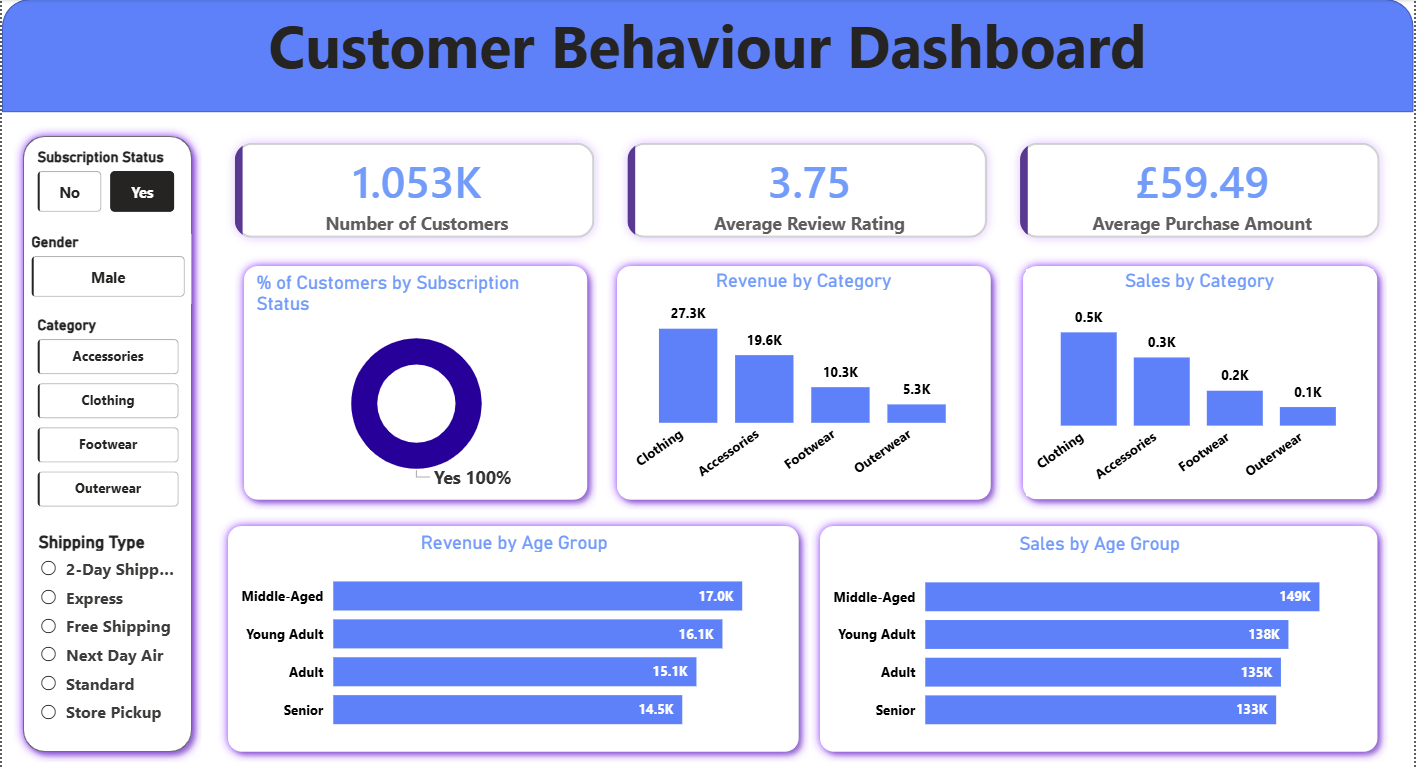

The dashboard page shown, as its layout file describes it:
{"tool":"powerbi","page":{"name":"Page 1","canvas":[1280,720],"ordinal":0},"visuals":[{"type":"cardVisual","fields":{"Data":["customer_behaviour customer.Number of Customers","customer_behaviour customer.Average Review Rating","customer_behaviour customer.Average Purchase Amount"]},"box":[183.1,102.1,1096.9,142.6],"z":0},{"type":"shape","box":[0,0,1280,102.8],"z":1000},{"type":"textbox","box":[187.7,0,904.1,85.2],"z":2000},{"type":"shape","box":[210.7,232.8,329.4,230.1],"z":3000},{"type":"donutChart","title":"% of Customers by Subscription Status","fields":{"Category":["customer_behaviour customer.subscription_status"],"Y":["CountNonNull(customer_behaviour customer.customer_id)"]},"box":[225.4,246.6,300,202.4],"z":4000},{"type":"shape","box":[916.5,232.8,339.3,229.7],"z":5000},{"type":"shape","box":[548.4,232.8,357,230.1],"z":6000},{"type":"shape","box":[196,468.4,535.6,222.7],"z":7000},{"type":"shape","box":[732.5,468.4,523.6,222.7],"z":9000,"group":"g1"},{"type":"clusteredColumnChart","title":"Revenue by Category","fields":{"Category":["customer_behaviour customer.category"],"Y":["Sum(customer_behaviour customer.purchase_amount)"]},"box":[563.2,244.8,327.6,202.4],"z":9001},{"type":"clusteredColumnChart","title":"Sales by Category","fields":{"Category":["customer_behaviour customer.category"],"Y":["CountNonNull(customer_behaviour customer.customer_id)"]},"box":[928.5,244.6,314.7,206],"z":9002},{"type":"shape","box":[10,115.2,171.4,576.7],"z":9003},{"type":"advancedSlicerVisual","title":"Subscription Status","fields":{"Values":["customer_behaviour customer.subscription_status"]},"box":[27.6,136.2,135.3,62.6],"z":9004},{"type":"advancedSlicerVisual","title":"Gender","fields":{"Values":["customer_behaviour customer.gender"]},"box":[21.8,213.1,149.6,62.6],"z":9005},{"type":"advancedSlicerVisual","title":"Category","fields":{"Values":["customer_behaviour customer.category"]},"box":[27.2,288.4,138.7,180.5],"z":9006},{"type":"listSlicer","title":"Shipping Type","fields":{"Values":["customer_behaviour customer.shipping_type"]},"box":[28.1,482.4,136,185],"z":9007},{"type":"clusteredBarChart","title":"Revenue by Age Group ","fields":{"Y":["Sum(customer_behaviour customer.purchase_amount)"],"Category":["customer_behaviour customer.age_group"]},"box":[210.7,482.2,508,195.1],"z":9008},{"type":"clusteredBarChart","title":"Sales by Age Group ","fields":{"Category":["customer_behaviour customer.age_group"],"Y":["Sum(customer_behaviour customer.customer_id)"]},"box":[746.8,482.8,496,194.2],"z":9009,"group":"g1"},{"type":"group","id":"g1","title":"Group 3","box":[732.5,468.4,523.6,222.7],"z":9012}]}

Visuals, with their boxes on the page's 1280x720 design canvas (x1, y1, x2, y2). These are canvas units, not pixel positions in the 1416x767 screenshot, which may show the page scaled, cropped or inside an application window:
cardVisual - customer_behaviour customer.Number of Customers x customer_behaviour customer.Average Review Rating: x1=183 y1=102 x2=1280 y2=245
shape: x1=0 y1=0 x2=1280 y2=103
textbox: x1=188 y1=0 x2=1092 y2=85
shape: x1=211 y1=233 x2=540 y2=463
"% of Customers by Subscription Status" donutChart: x1=225 y1=247 x2=525 y2=449
shape: x1=916 y1=233 x2=1256 y2=462
shape: x1=548 y1=233 x2=905 y2=463
shape: x1=196 y1=468 x2=732 y2=691
shape: x1=732 y1=468 x2=1256 y2=691
"Revenue by Category" clusteredColumnChart: x1=563 y1=245 x2=891 y2=447
"Sales by Category" clusteredColumnChart: x1=928 y1=245 x2=1243 y2=451
shape: x1=10 y1=115 x2=181 y2=692
"Subscription Status" advancedSlicerVisual: x1=28 y1=136 x2=163 y2=199
"Gender" advancedSlicerVisual: x1=22 y1=213 x2=171 y2=276
"Category" advancedSlicerVisual: x1=27 y1=288 x2=166 y2=469
"Shipping Type" listSlicer: x1=28 y1=482 x2=164 y2=667
"Revenue by Age Group " clusteredBarChart: x1=211 y1=482 x2=719 y2=677
"Sales by Age Group " clusteredBarChart: x1=747 y1=483 x2=1243 y2=677
"Group 3" group: x1=732 y1=468 x2=1256 y2=691
